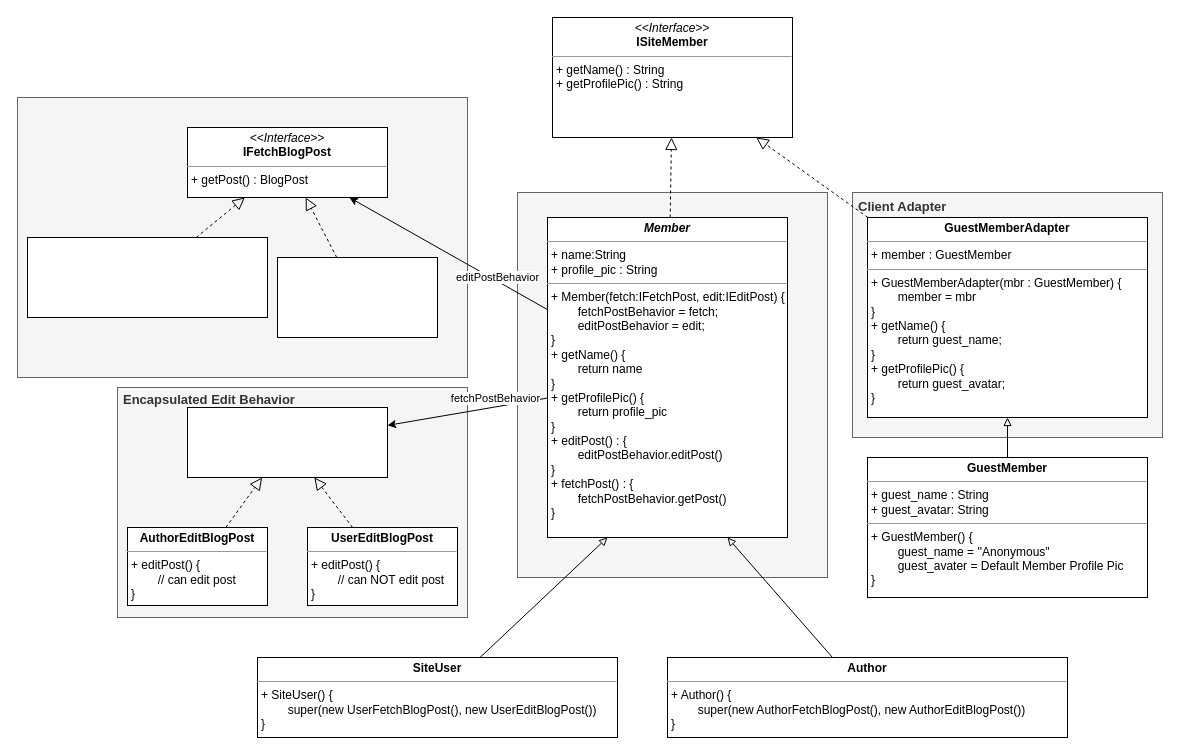
The diagram is 1180 pixels wide and 755 high, and some of its shapes have lost their labels. The box of each missing label's shape, as (x1, y1, x2, y2) in pixels:
<<Interface>> IEditBlogPost + editPost() : BlogPost: (186, 406, 388, 478)
AuthorFetchBlogPost + getPost() { // returns blog posts and analytics }: (26, 236, 268, 318)
Client: (516, 192, 828, 578)
Encapsulated User Fetch Behavior: (16, 96, 468, 378)
UserFetchBlogPost + getPost() { // returns blog post }: (276, 256, 438, 338)
